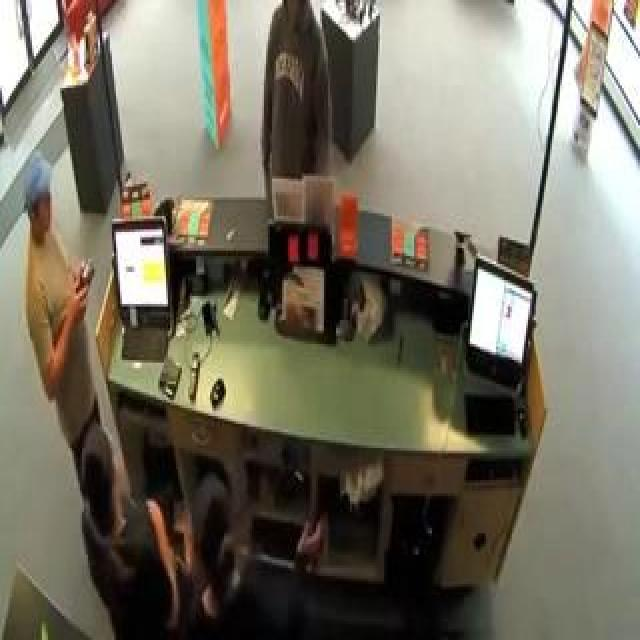high_con: (276, 0, 320, 48)
low_con: (16, 150, 64, 240)
no_con: (75, 430, 124, 540), (190, 479, 236, 593)
